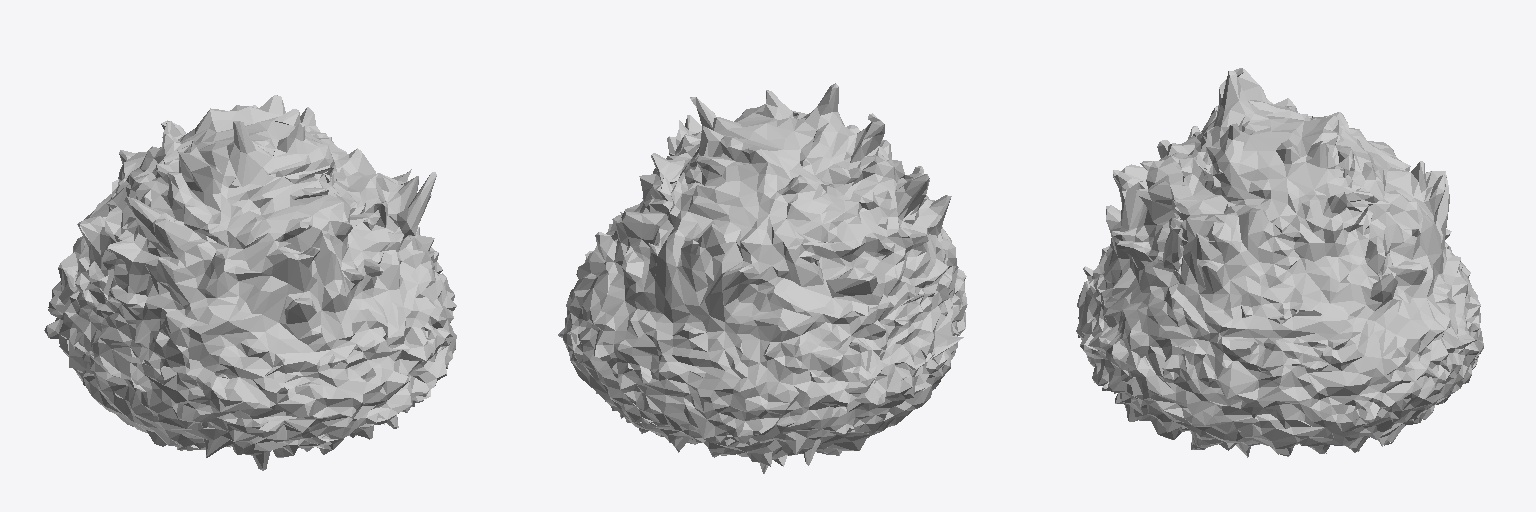
The model's file is c221d65f33f1_green_and_purple_al.obj.
3 renders of one model, left to right at view 1: azimuth 30°, elevation 25°; view 2: azimuth 150°, elevation 25°; view 3: azimuth 270°, elevation 25°, orthographic.
Visible parts, largest first — view 1: mesh; view 2: mesh; view 3: mesh.
Boxes of the visible parts, <box> form: mesh: <box>44,95,456,470</box>; mesh: <box>558,83,967,473</box>; mesh: <box>1076,68,1483,457</box>.
Size of the model in its own units: 0.9639 by 0.8883 by 1.